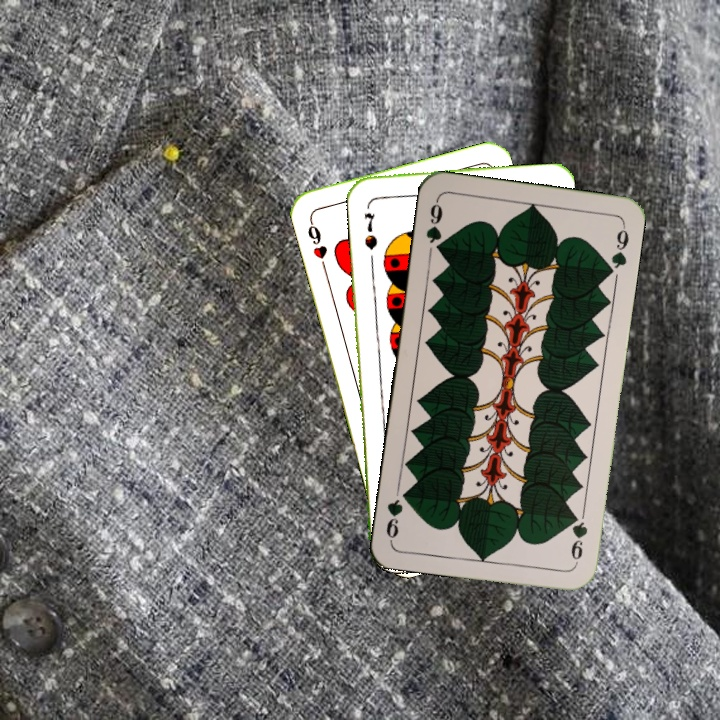G9: (422, 196, 446, 256), (566, 509, 590, 567)
H9: (303, 215, 330, 273)
S7: (360, 208, 380, 252)
